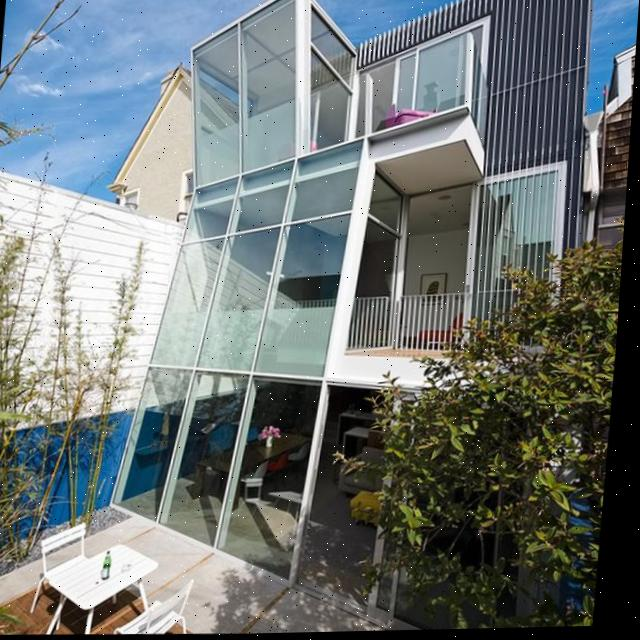building: (98, 0, 611, 633)
